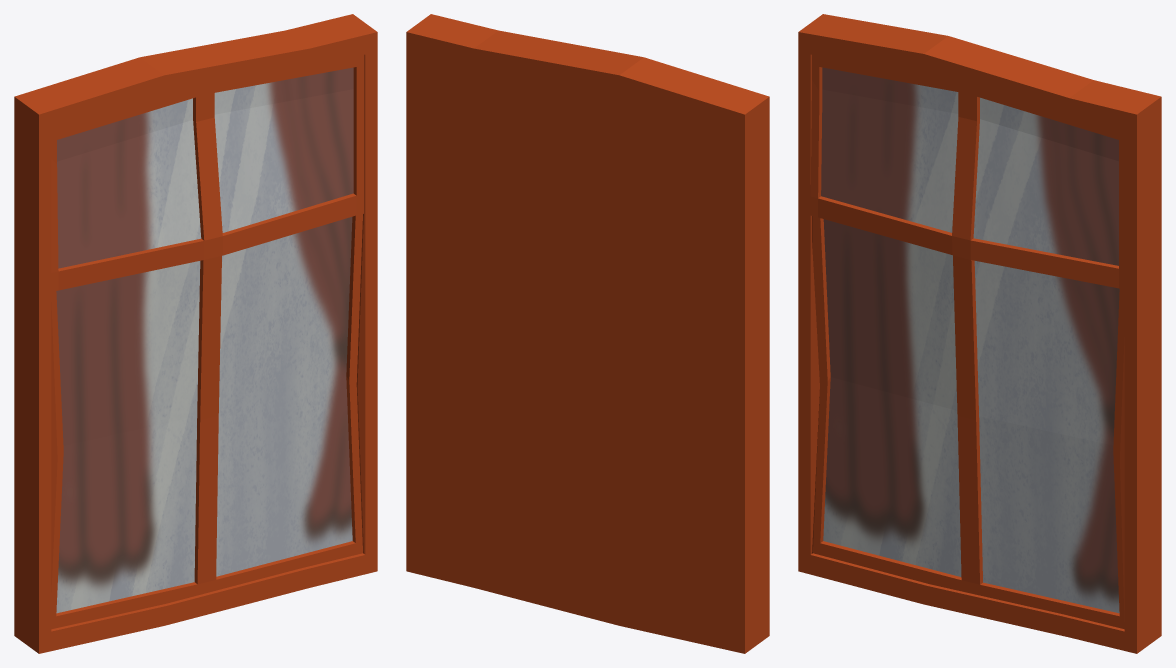
The model's file is Window23.fbx.
3 views of the same model, side by side, from view 1: azimuth 30°, elevation 25°; view 2: azimuth 150°, elevation 25°; view 3: azimuth 330°, elevation 25° (orthographic).
Visible parts, largest first — view 1: Cube.084; view 2: Cube.084; view 3: Cube.084.
Part boxes in pixels (left/top/right/bottom): Cube.084: left=14, top=14, right=377, bottom=653; Cube.084: left=406, top=14, right=769, bottom=653; Cube.084: left=798, top=14, right=1161, bottom=653.
Bounding box in the file's own units: 125 × 194 × 19.45.
